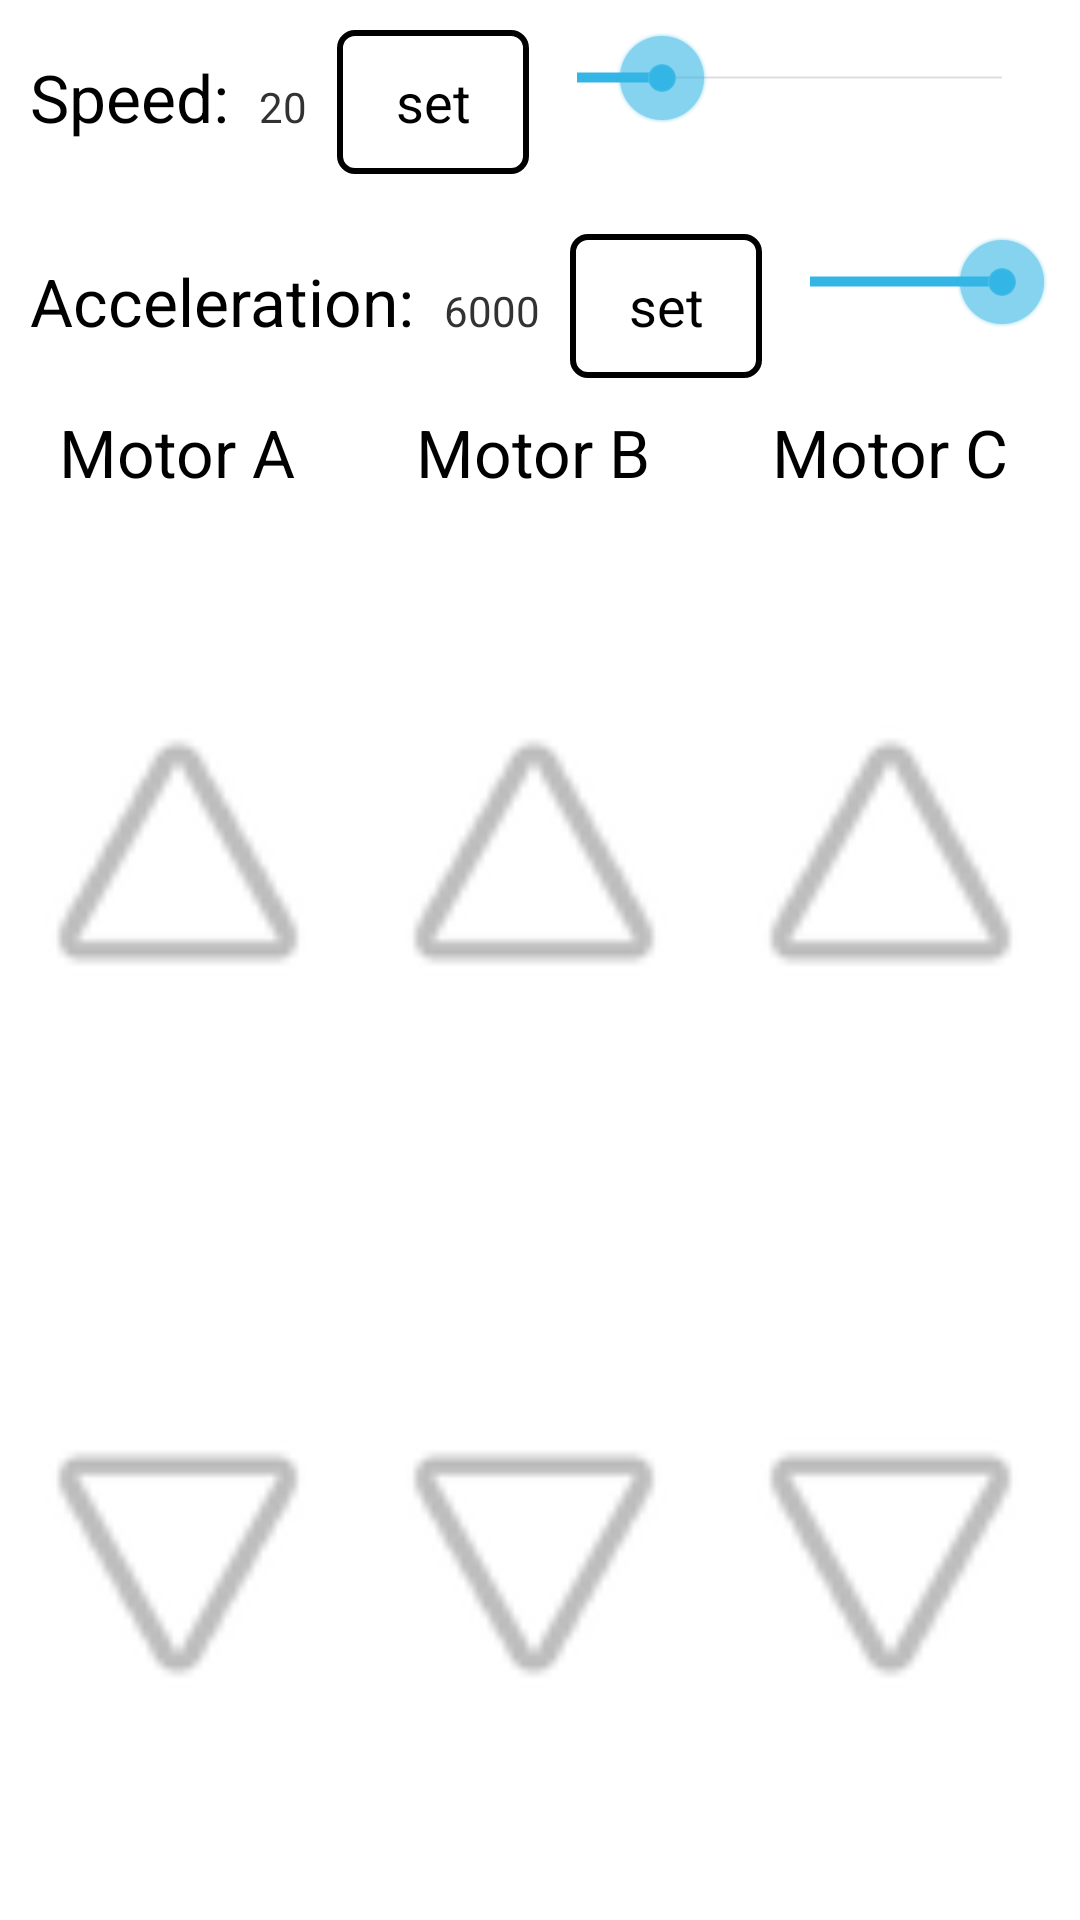

Locate icon controls on the screen. Image size 1080w x 1920h, boxes as [x1,y1,x2,y2].
play down: [770,1454,1011,1673], [58,1455,298,1673], [414,1455,654,1673]
play up: [58,743,298,961], [414,743,654,961], [771,743,1010,962]
